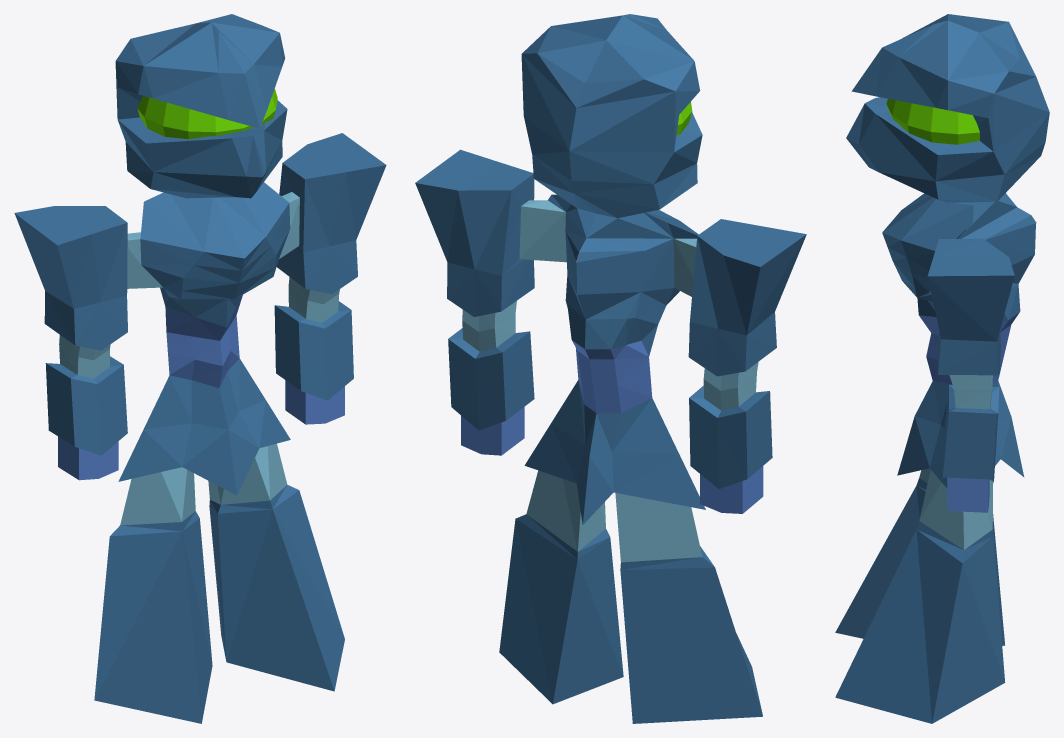
The model's file is Base Bot.dae.
3 views of the same model, side by side, from view 1: azimuth 30°, elevation 25°; view 2: azimuth 150°, elevation 25°; view 3: azimuth 270°, elevation 25° (orthographic). The views are drawn at different scales.
Parts seen in each view (by area): view 1: Plane; view 2: Plane; view 3: Plane.
Part boxes in pixels (left/top/right/bottom): Plane: left=14, top=14, right=386, bottom=723; Plane: left=415, top=14, right=806, bottom=723; Plane: left=835, top=14, right=1049, bottom=723.
Size of the model in its own units: 9.35 by 5.27 by 17.47.
